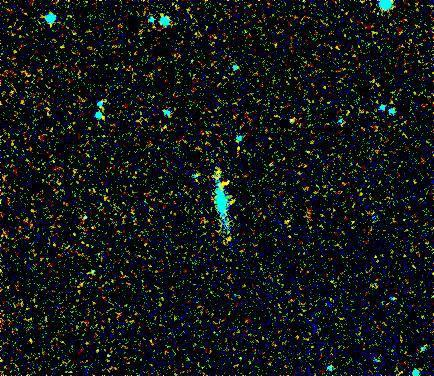star: (218, 168, 248, 198)
